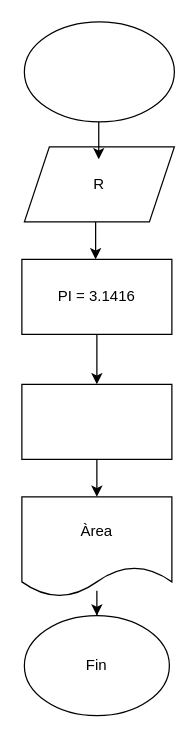
Some shapes in this 196 by 738 pixel diagram are drawn without their labels. The box of each missing label's shape, as (x1, y1, x2, y2) in pixels:
Inicio: (23, 21, 174, 122)
àrea = PI* R* R: (21, 383, 172, 459)
